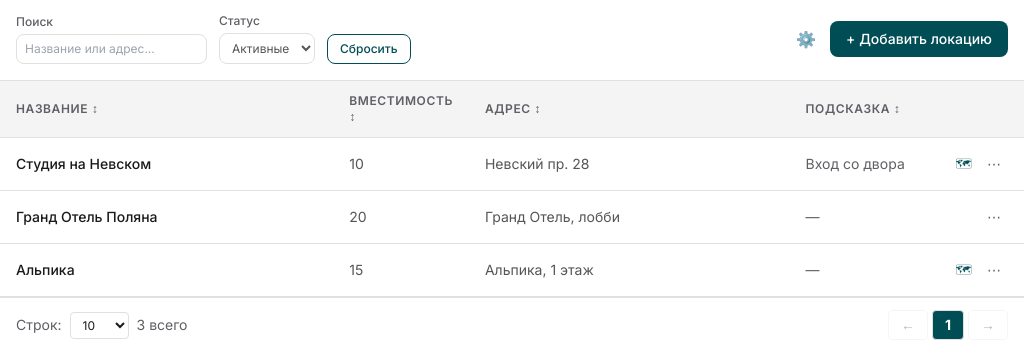
Test case: LocationsTable › shows "Удалить" option in action dropdown
The width and height of the screenshot is (1024, 357).
Check: the text "Студия на Невском" is shown, box [16,155,151,172]
Check: the text "Гранд Отель Поляна" is shown, box [16,208,158,225]
Step 1. Click the button named "Действия" → x=994, y=164, box [980,150,1008,178]
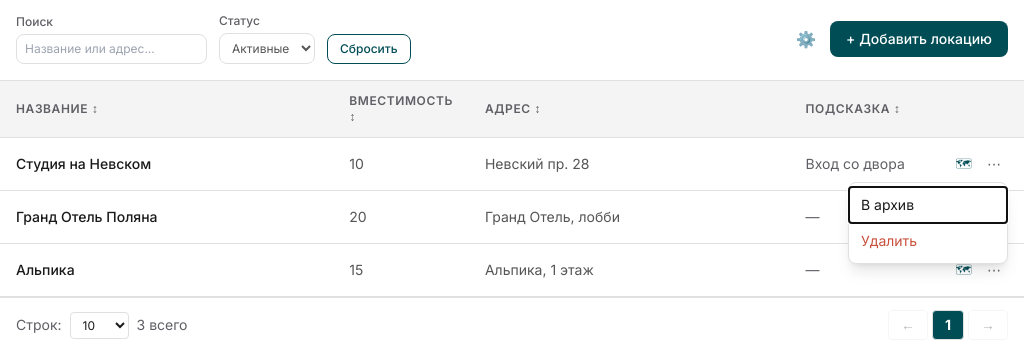
Check: the menu item "Удалить" is shown, box [849,223,1007,259]
